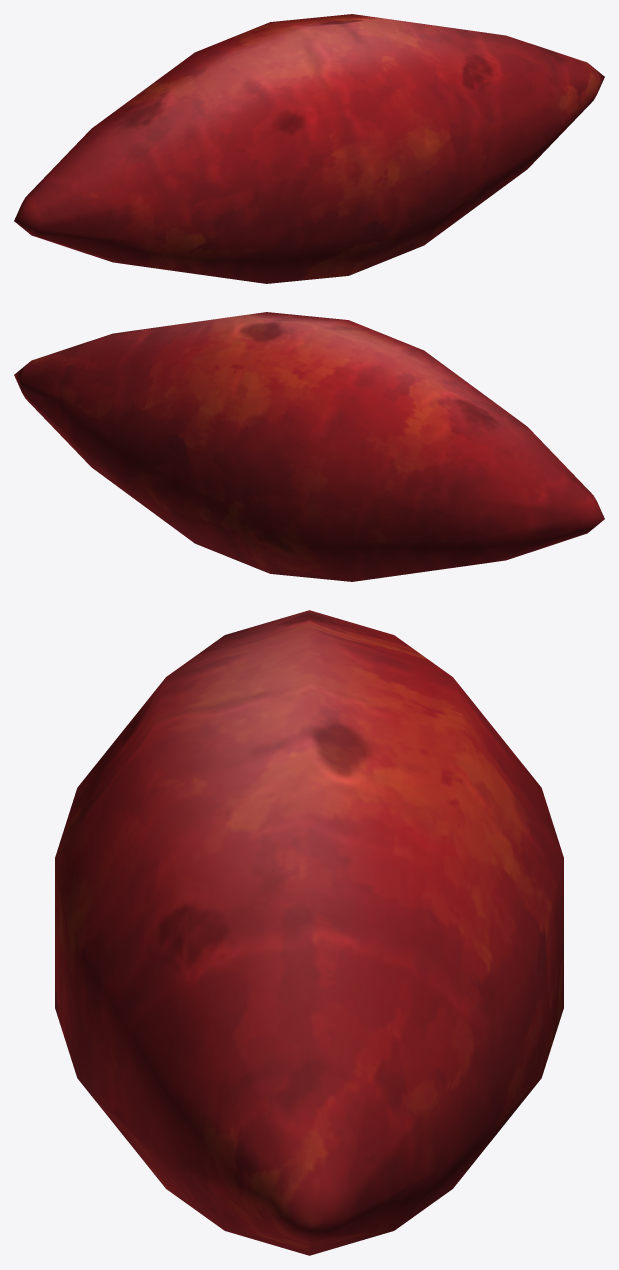
Rendered from Potato_Yam.fbx.
3 views of the same model, one above another, from view 1: azimuth 30°, elevation 25°; view 2: azimuth 150°, elevation 25°; view 3: azimuth 270°, elevation 25° (orthographic). The views are drawn at different scales.
Parts seen in each view (by area): view 1: Potato_Yam; view 2: Potato_Yam; view 3: Potato_Yam.
Part boxes in pixels (x1,y1,x2,y2): Potato_Yam: (14, 14, 604, 283); Potato_Yam: (14, 312, 604, 581); Potato_Yam: (55, 610, 563, 1255).
Bounding box in the file's own units: 78.98 × 30.97 × 29.46.
